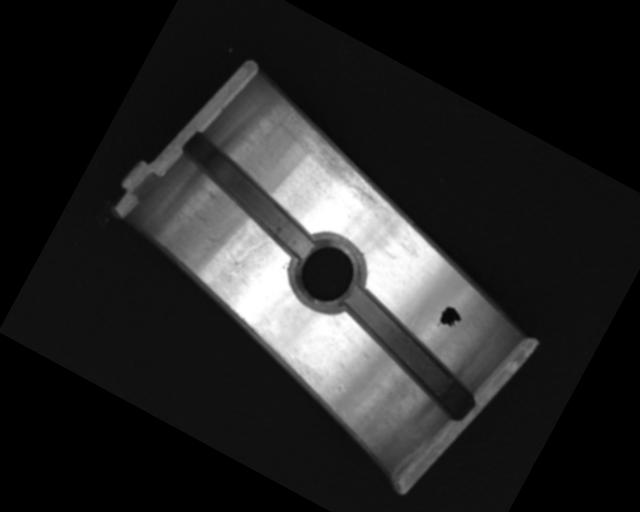blot: (433, 301, 467, 335)
bruise: (198, 232, 225, 258), (331, 380, 348, 398)
gap: (320, 282, 495, 421), (161, 128, 334, 261)
hole: (277, 220, 378, 324)
nick: (225, 227, 272, 287)
scratch: (261, 103, 412, 219)
